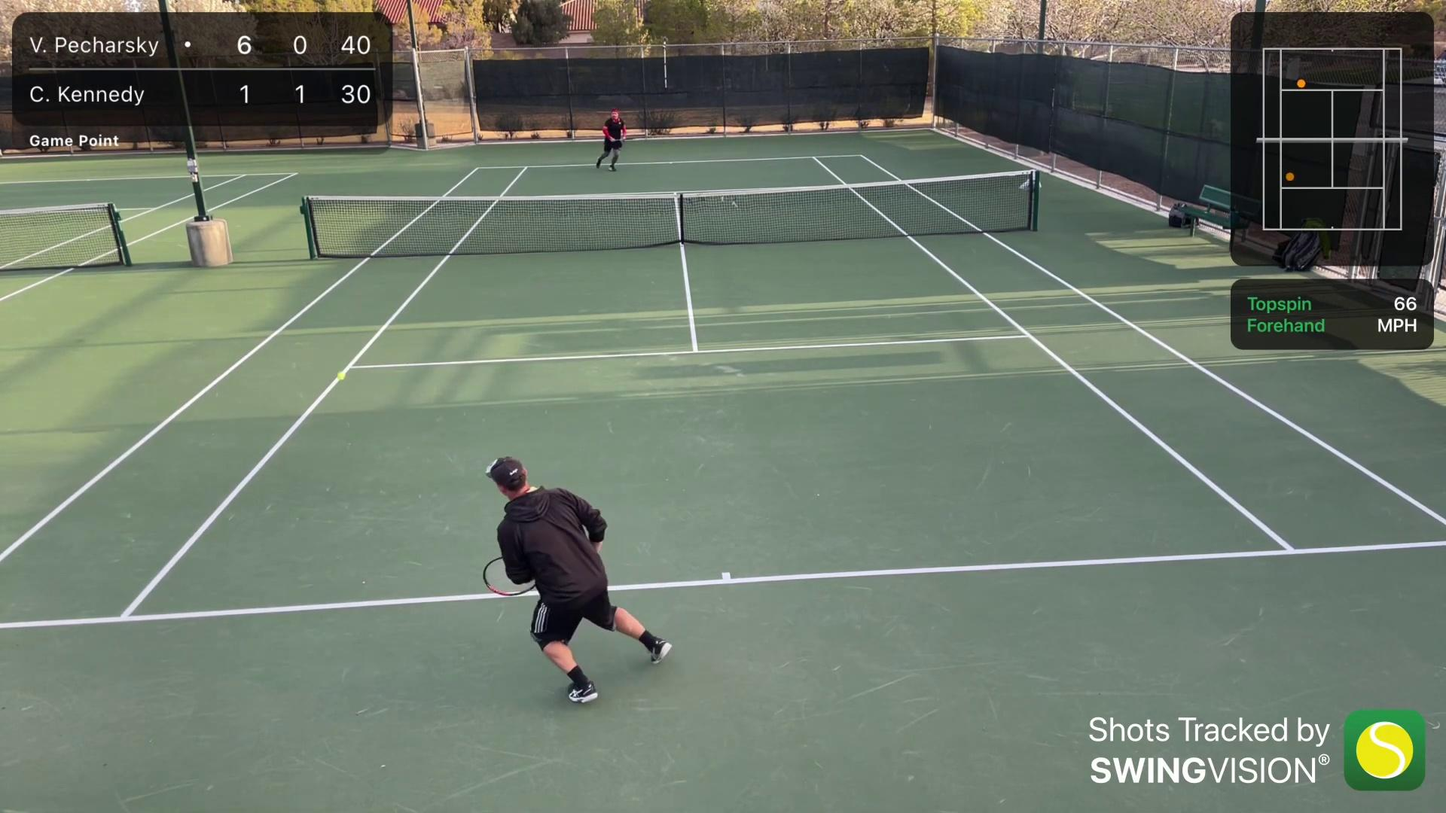ball: (336, 370, 346, 381)
